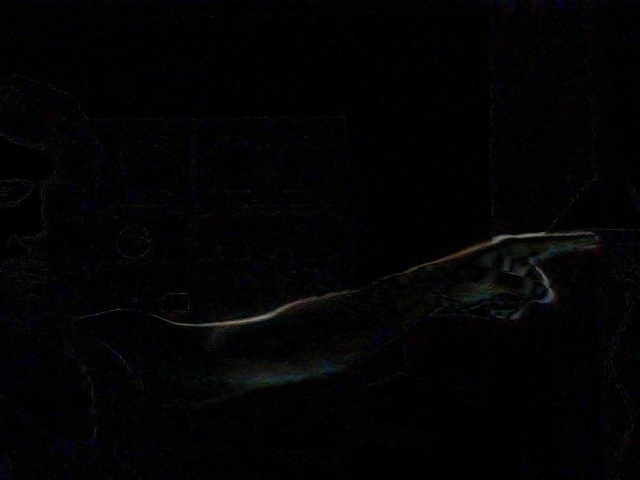hand_po: (429, 210, 629, 328)
